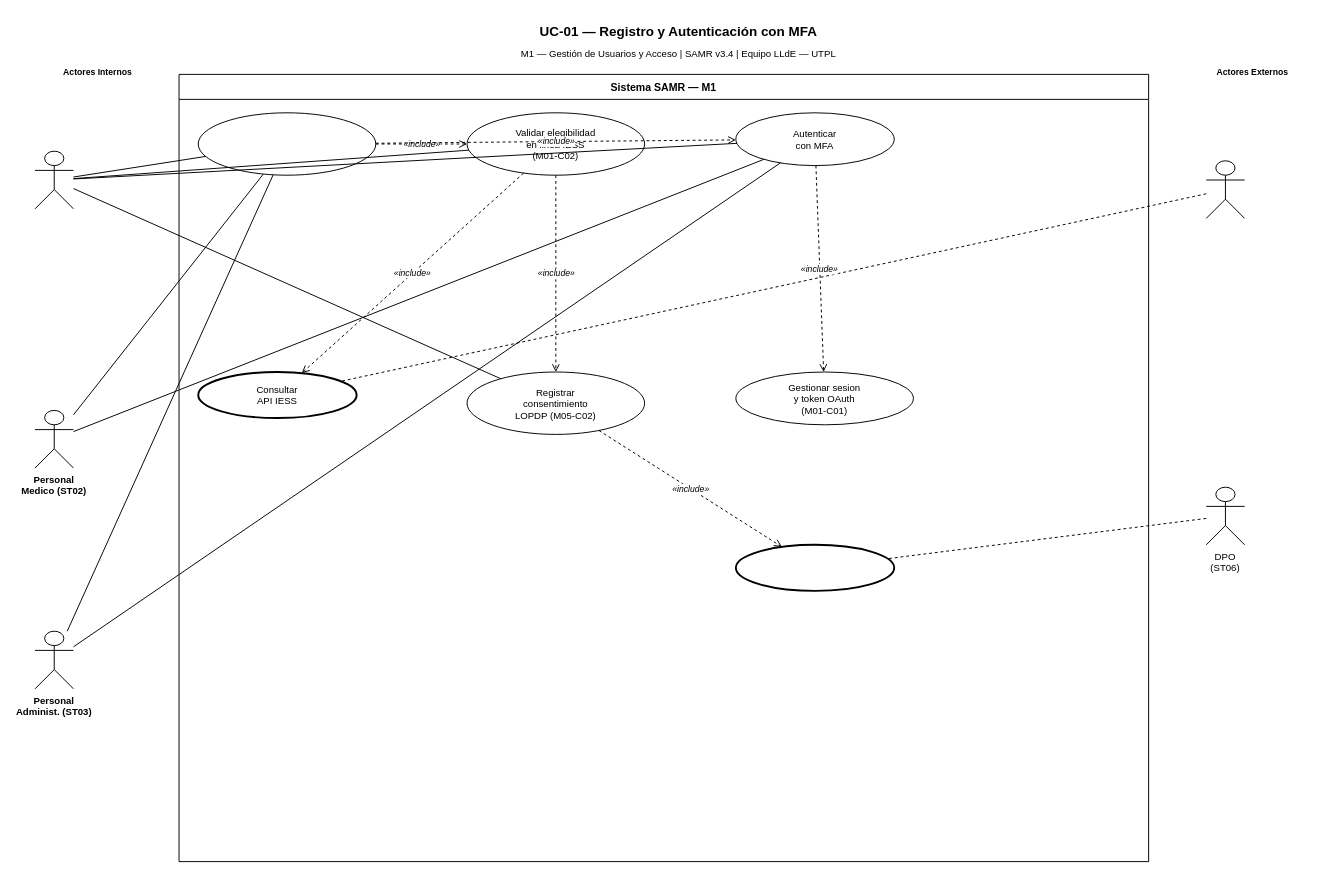
Some shapes in this 1333 by 878 pixel diagram are drawn without their labels. Each missing label, with the centre of its shape:
API IESS / Red Salud Publica: the point at 1225,189
Paciente (ST01): the point at 53,179
Registrar perfil y gestionar roles (M01-C01): the point at 286,143
Supervisar LOPDP (DPO): the point at 814,567
